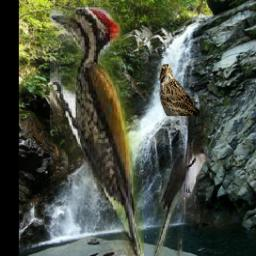Cuckoo: (154, 141, 212, 256)
Sparrow: (158, 64, 200, 117)
Woodpecker: (50, 8, 144, 256)
